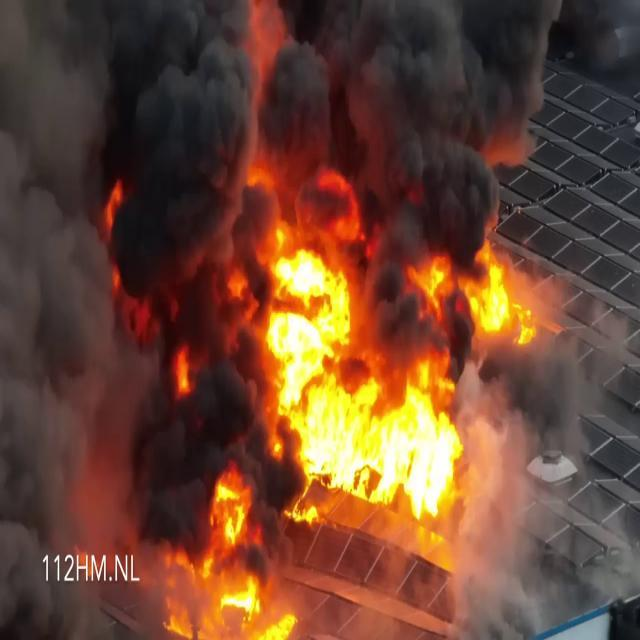Fire: (262, 212, 542, 493), (155, 461, 309, 640)
Smoke: (0, 1, 244, 504), (262, 0, 560, 231), (444, 396, 552, 640)
